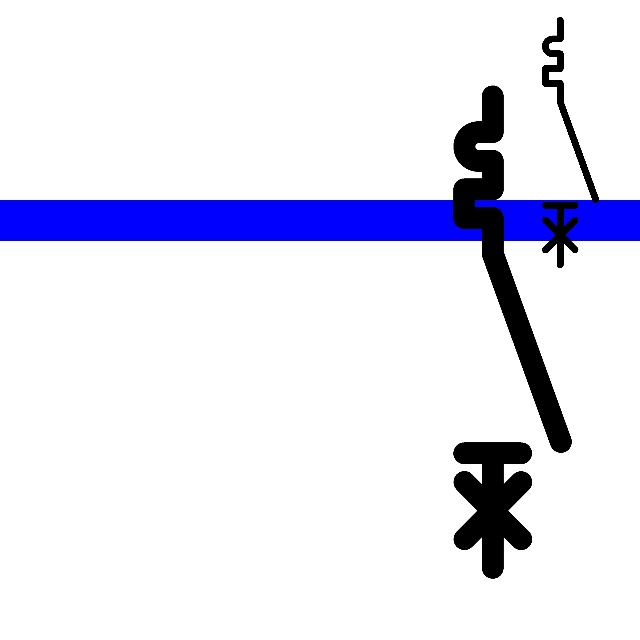interruptor_termomagnetico: (452, 84, 573, 580), (539, 14, 602, 271)
